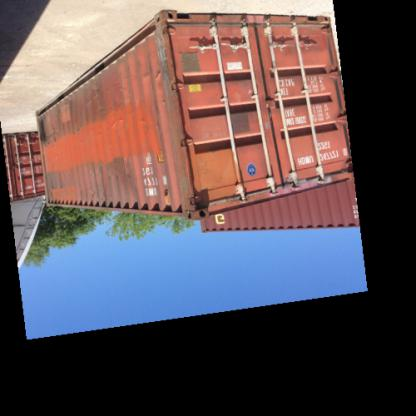Damage: (124, 30, 174, 88), (74, 81, 106, 123), (85, 166, 141, 185), (36, 112, 56, 152), (78, 187, 108, 208), (43, 176, 67, 202), (132, 108, 150, 138), (108, 112, 131, 134)
